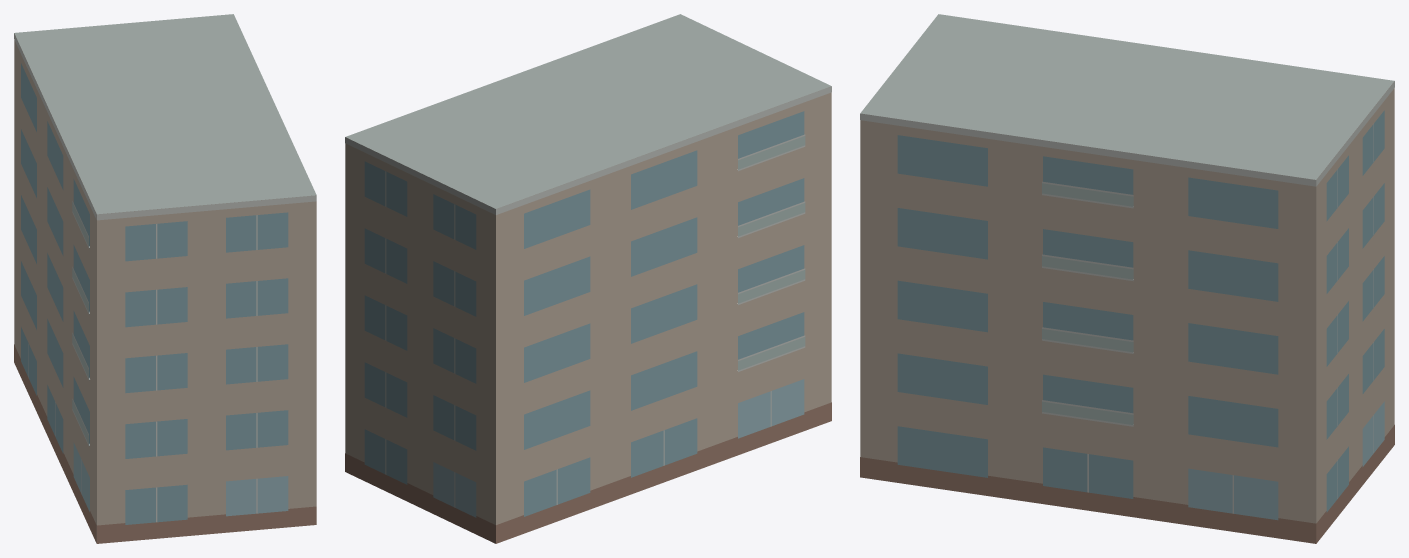
The model's file is survey-upis-32947203.glb.
3 renders of one model, left to right at view 1: azimuth 30°, elevation 25°; view 2: azimuth 150°, elevation 25°; view 3: azimuth 270°, elevation 25°, orthographic. The views are drawn at different scales.
Parts seen in each view (by area): view 1: survey-upis-32947203.tmp; view 2: survey-upis-32947203.tmp; view 3: survey-upis-32947203.tmp.
Part boxes in pixels (x1,y1,x2,y2): survey-upis-32947203.tmp: (14,14,316,543); survey-upis-32947203.tmp: (345,14,831,543); survey-upis-32947203.tmp: (860,14,1394,543).
Size of the model in its own units: 12.92 by 13.2 by 17.59.
